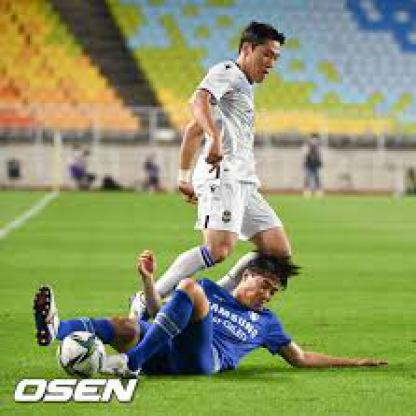Fall_Down: (31, 250, 394, 382)
